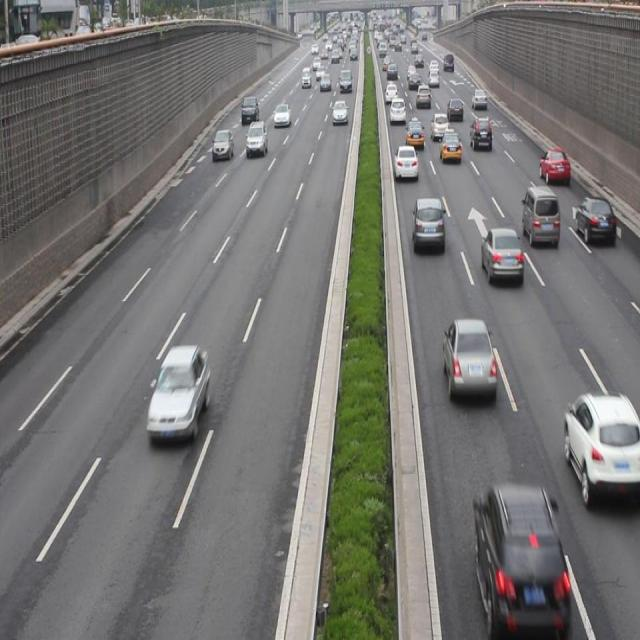car: (471, 481, 565, 631), (563, 390, 640, 500), (148, 342, 209, 440), (442, 316, 495, 400), (480, 227, 522, 284), (574, 193, 614, 244), (411, 195, 443, 253), (539, 148, 569, 186), (469, 114, 493, 152), (393, 144, 417, 181), (245, 120, 267, 155), (439, 129, 461, 163), (213, 126, 233, 161), (240, 93, 260, 124), (404, 116, 423, 148), (388, 97, 405, 125), (431, 113, 448, 141), (330, 98, 348, 124), (446, 96, 463, 120), (274, 104, 291, 126)
truck: (522, 185, 559, 245)
